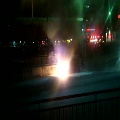fire: (53, 54, 69, 80)
